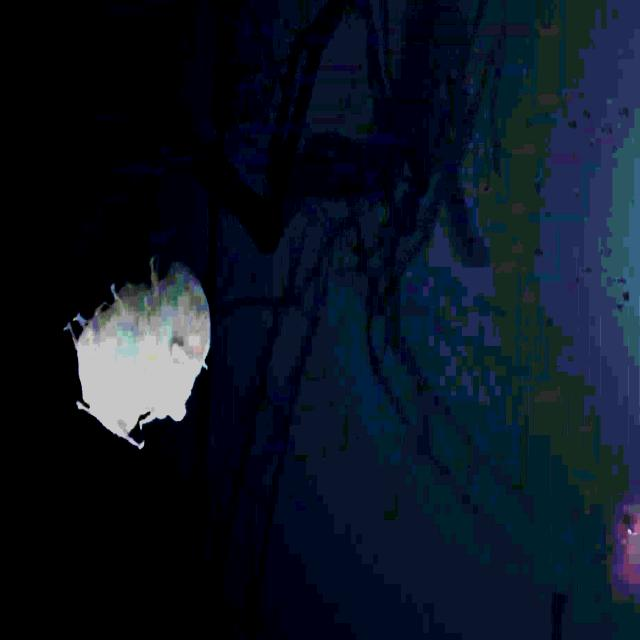blob: (64, 258, 210, 446)
